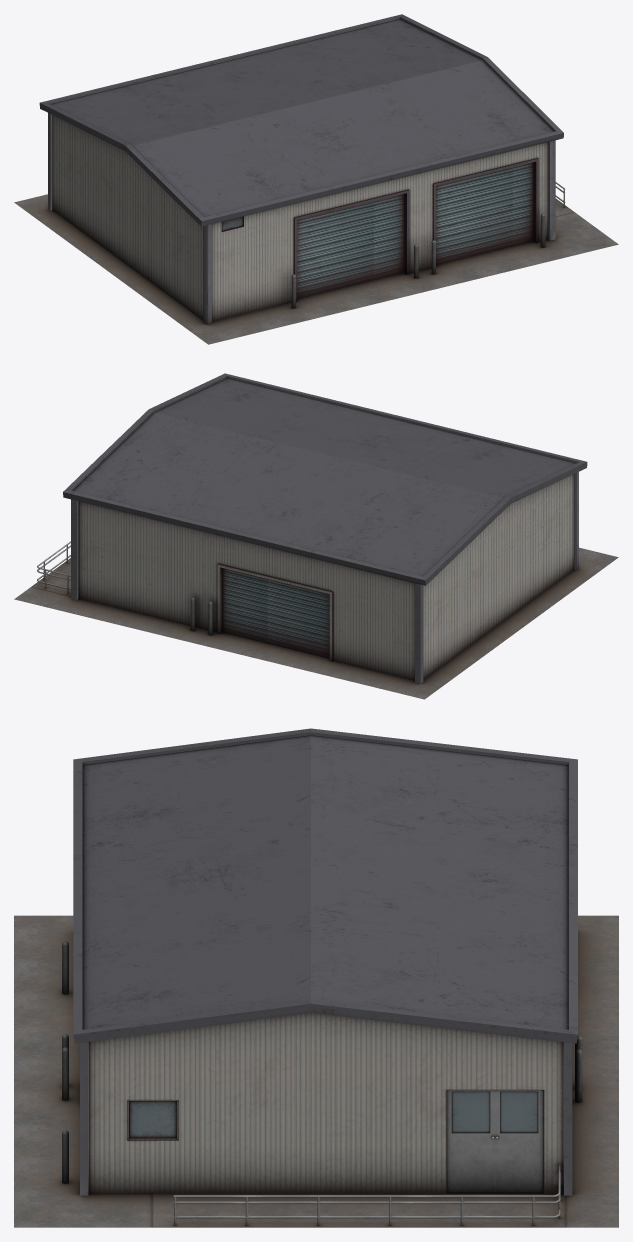
The model's file is Warehouse.fbx.
The picture shows the model from 3 angles, top to bottom: view 1: azimuth 30°, elevation 25°; view 2: azimuth 150°, elevation 25°; view 3: azimuth 270°, elevation 25°; orthographic projection. The views are drawn at different scales.
Visible parts, largest first — view 1: polySurface2, polySurface1, pPlane1, pCube9, pCylinder18; view 2: polySurface2, polySurface1, pPlane1, pCube9, pCylinder19; view 3: polySurface2, polySurface1, pPlane1, polySurface5, pCylinder19, pCube9, pCylinder18.
Part boxes in pixels (x1=…): polySurface2: x1=39, y1=14, x2=563, y2=226; polySurface1: x1=52, y1=115, x2=548, y2=321; pPlane1: x1=14, y1=194, x2=618, y2=344; pCube9: x1=48, y1=113, x2=555, y2=324; pCylinder18: x1=291, y1=213, x2=545, y2=308; polySurface2: x1=63, y1=373, x2=587, y2=585; polySurface1: x1=78, y1=474, x2=574, y2=680; pPlane1: x1=14, y1=547, x2=618, y2=699; pCube9: x1=71, y1=472, x2=578, y2=683; pCylinder19: x1=37, y1=541, x2=70, y2=593; polySurface2: x1=73, y1=728, x2=577, y2=1043; polySurface1: x1=88, y1=1012, x2=563, y2=1193; pPlane1: x1=14, y1=915, x2=618, y2=1227; polySurface5: x1=446, y1=1090, x2=543, y2=1193; pCylinder19: x1=173, y1=1164, x2=560, y2=1225; pCube9: x1=80, y1=1042, x2=572, y2=1195; pCylinder18: x1=62, y1=941, x2=582, y2=1183.
Size of the model in its own units: 22.42 by 6.59 by 18.38.
Materials: 8 (7 with a texture image).
